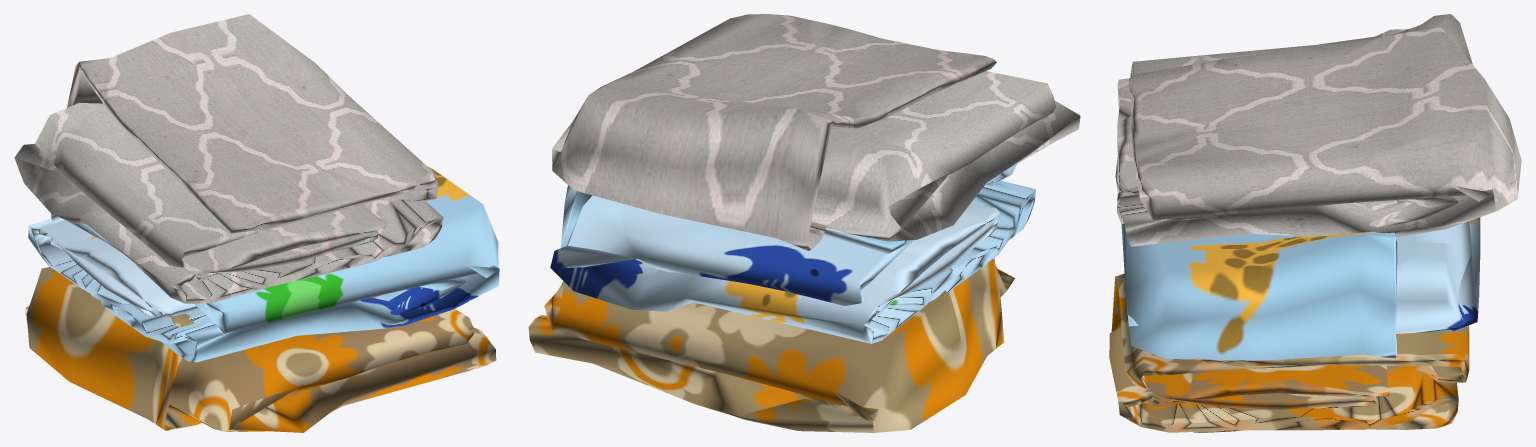
The model's file is blanket_pile.fbx.
3 renders of one model, left to right at view 1: azimuth 30°, elevation 25°; view 2: azimuth 150°, elevation 25°; view 3: azimuth 270°, elevation 25°, orthographic. The views are drawn at different scales.
Visible parts, largest first — view 1: blanket_grey, blanket_orange, blanket_fish; view 2: blanket_grey, blanket_orange, blanket_fish; view 3: blanket_grey, blanket_fish, blanket_orange.
Part boxes in pixels (x1,y1,x2,y2): blanket_grey: (14,14,443,303); blanket_orange: (25,267,496,432); blanket_fish: (28,167,499,362); blanket_grey: (552,14,1080,250); blanket_orange: (528,258,1015,432); blanket_fish: (550,164,1035,343); blanket_grey: (1115,14,1521,246); blanket_fish: (1121,217,1480,360); blanket_orange: (1109,273,1469,432).
Bounding box in the file's own units: 0.6554 × 0.4845 × 0.6098.
Materials: 3 (3 with a texture image).
